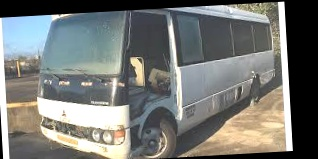bus: (32, 2, 280, 159)
